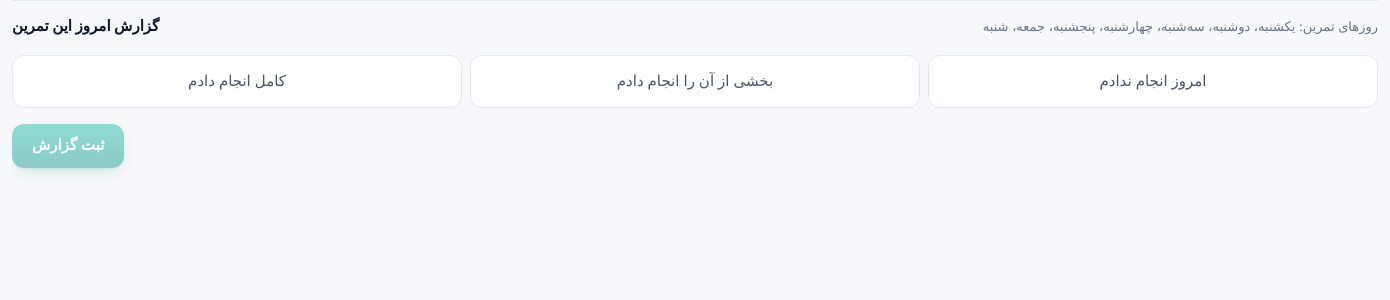
Test case: per-exercise reporting › retries the same payload after an uncertain response, then pauses
Click the button "کامل انجام دادم" at (237,81), box [12, 55, 462, 108]
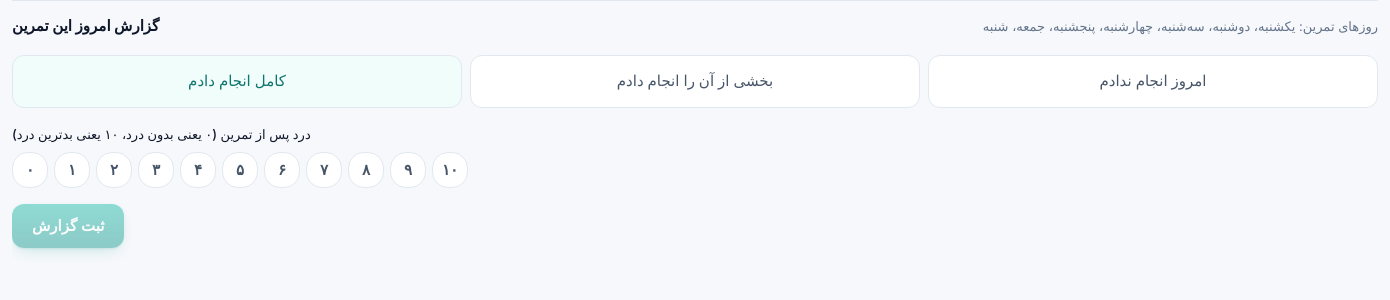
Click the button named "درد ۲ از ۱۰" at (114,170), box [96, 152, 132, 188]
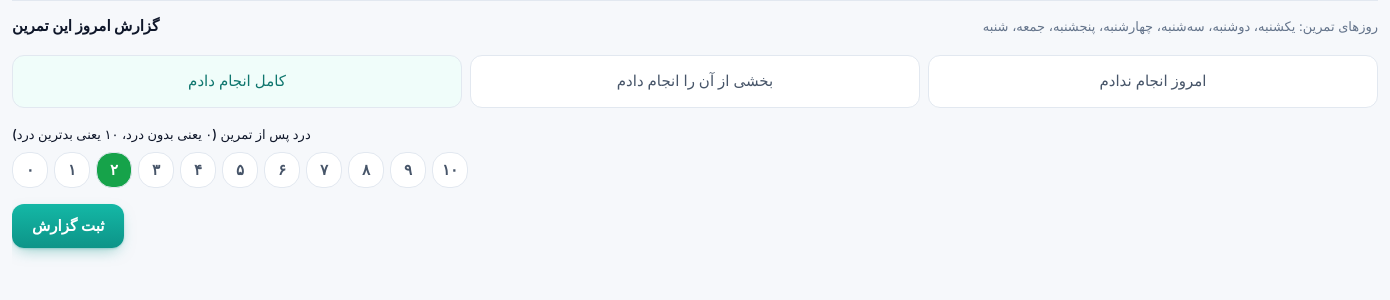
Click the button "ثبت گزارش" at (68,226), box [12, 204, 124, 248]
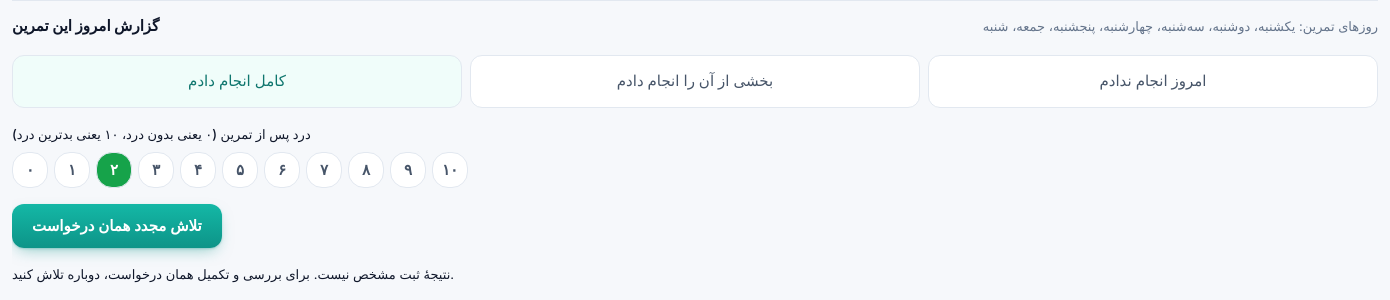
Expected: the button "کامل انجام دادم" is disabled, [12, 55, 462, 108]
Expected: the button "تلاش مجدد همان درخواست" is shown
Click the button "تلاش مجدد همان درخواست" at (117,226), box [12, 204, 222, 248]
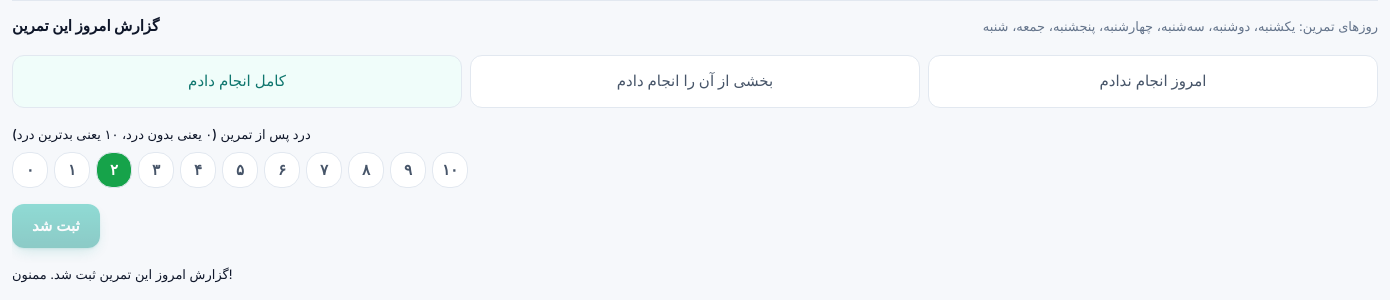
Expected: the message shows "ثبت شد", [12, 266, 232, 282]
Expected: the button "ثبت شد" is disabled, [12, 204, 100, 248]
